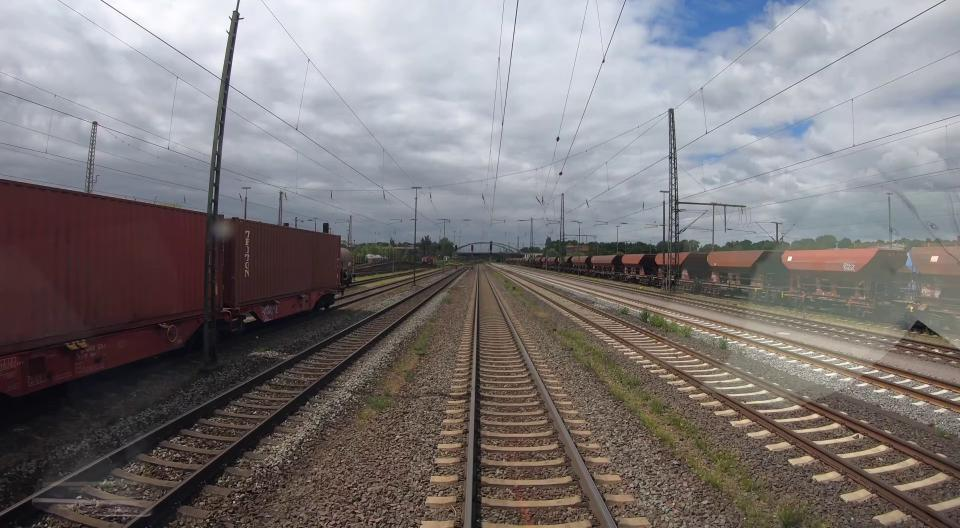Plant: (554, 328, 675, 447), (663, 414, 771, 505), (683, 455, 762, 528), (614, 370, 663, 414), (638, 306, 692, 338), (773, 501, 823, 528), (410, 314, 437, 357), (368, 392, 392, 411), (494, 274, 517, 292), (718, 335, 730, 350), (441, 292, 454, 305), (618, 306, 630, 315)
